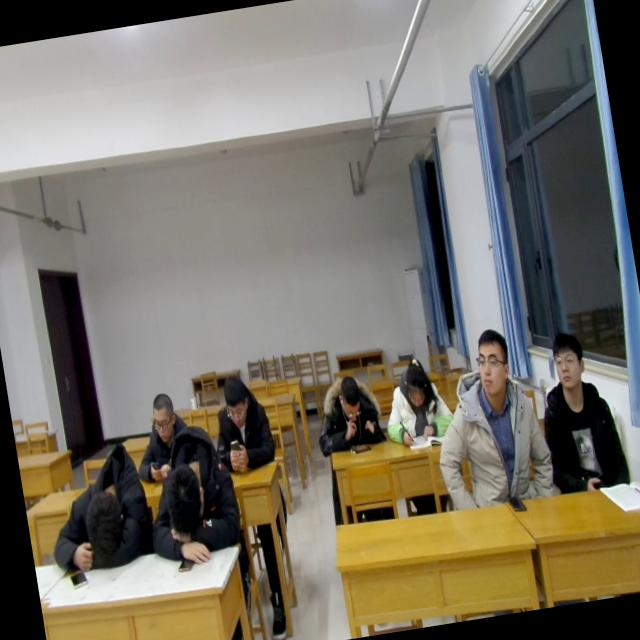bow: (39, 438, 162, 574), (138, 437, 249, 572)
down: (545, 329, 589, 398), (144, 382, 182, 444), (218, 370, 254, 432), (397, 352, 434, 412), (333, 372, 367, 427)
lookup: (468, 324, 514, 398)
sit: (421, 325, 556, 510), (530, 330, 634, 498), (374, 344, 459, 446), (208, 363, 277, 475), (306, 358, 386, 451), (130, 378, 206, 472)
